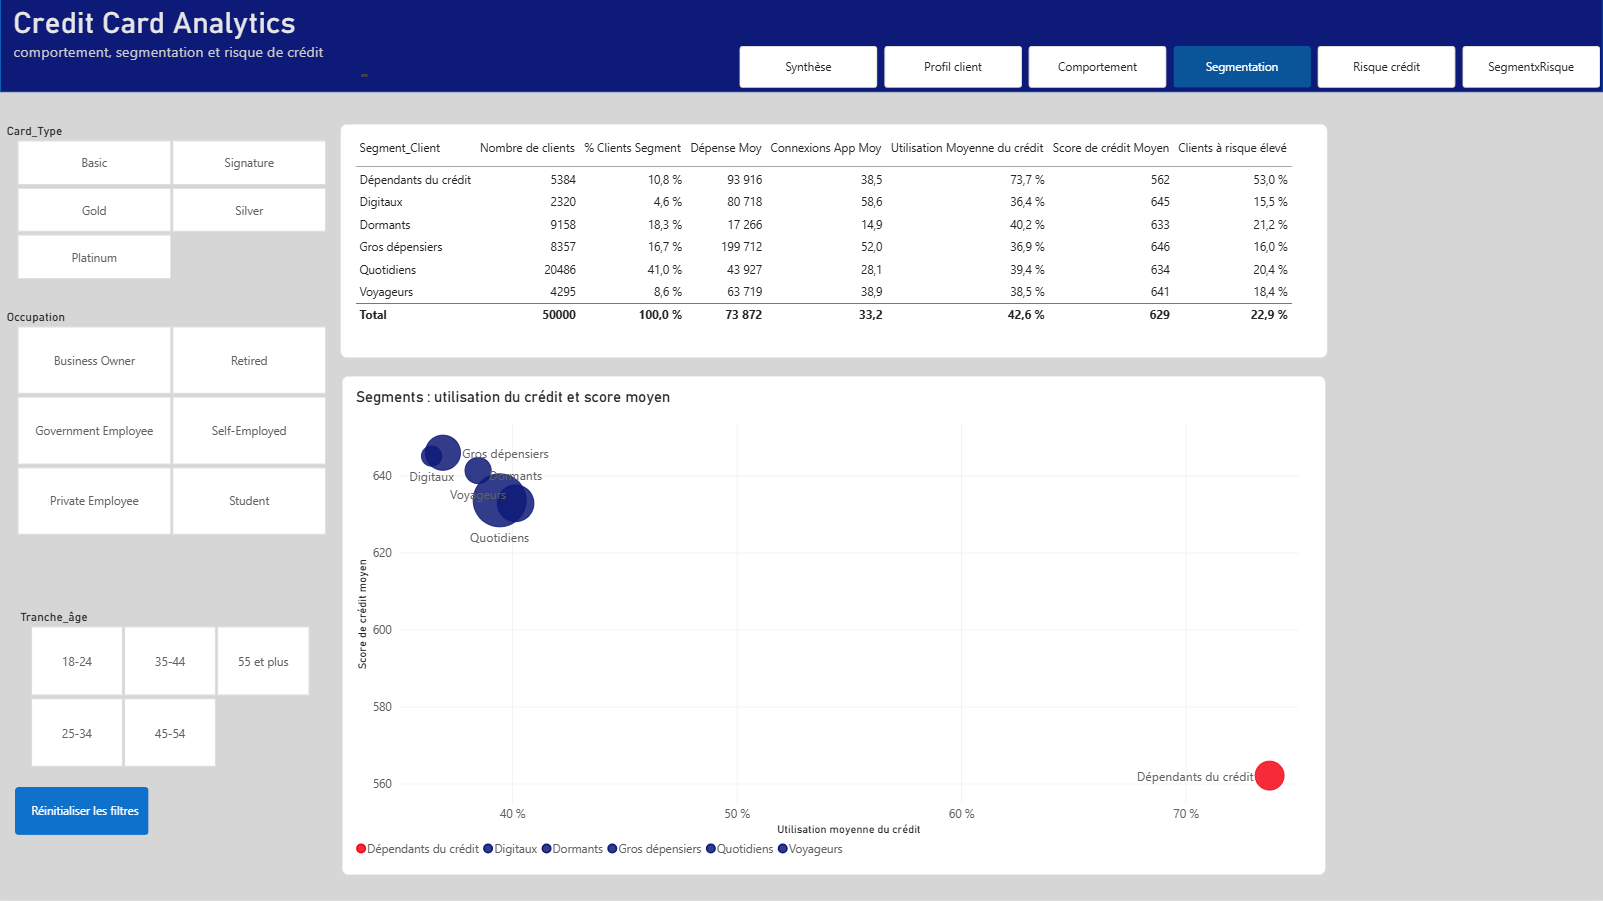

Layout of this report page (visuals, bound fields, positions):
{"tool":"powerbi","page":{"name":"Segmentation","canvas":[1920,1080],"ordinal":3},"visuals":[{"type":"shape","title":"Credit Card Analytics ","box":[0,0,1919.3,112.9],"z":0},{"type":"slicer","fields":{"Values":["Data.Card_Type"]},"box":[0,151.2,409,187.5],"z":1000},{"type":"slicer","fields":{"Values":["Data.Occupation"]},"box":[0,372.8,409,270.5],"z":2000},{"type":"slicer","fields":{"Values":["Data.Tranche_âge"]},"box":[17,732.8,372.8,189.6],"z":3000},{"type":"textbox","title":"Credit Card Analytics ","box":[17,8.5,423.9,85.2],"z":4000},{"type":"tableEx","fields":{"Values":["Data.Segment_Client","Mesures.Nombre de clients","Mesures.% Clients Segment","Mesures.Dépense Moy","Mesures.Connexions App Moy","Mesures.Utilisation Moyenne du crédit","Mesures.Score de crédit  Moyen","Mesures.Clients à risque élevé"]},"box":[407.9,150.1,1181,280.2],"z":5000},{"type":"scatterChart","title":"Segments : utilisation du crédit et score moyen","fields":{"Category":["Data.Segment_Client"],"Series":["Data.Segment_Client"],"Size":["Mesures.Nombre de clients"],"X":["Mesures.Utilisation Moyenne du crédit"],"Y":["Mesures.Score de crédit  Moyen"]},"box":[410,452.5,1177.5,597.5],"z":5001},{"type":"pageNavigator","box":[885,57.5,1035,50],"z":5002},{"type":"actionButton","box":[17.5,945,160,57.5],"z":5003}]}

Visuals, with their boxes in screenshot pixels (x1, y1, x2, y2), scaled from the page's 1920x1080 canvas onto the 1603x901 screenshot:
"Credit Card Analytics " shape: bbox=[0, 0, 1602, 94]
slicer - Data.Card_Type: bbox=[0, 126, 341, 283]
slicer - Data.Occupation: bbox=[0, 311, 341, 537]
slicer - Data.Tranche_âge: bbox=[14, 611, 325, 770]
"Credit Card Analytics " textbox: bbox=[14, 7, 368, 78]
tableEx - Data.Segment_Client x Mesures.Nombre de clients: bbox=[341, 125, 1327, 359]
"Segments : utilisation du crédit et score moyen" scatterChart: bbox=[342, 378, 1325, 876]
pageNavigator: bbox=[739, 48, 1602, 90]
actionButton: bbox=[15, 788, 148, 836]
